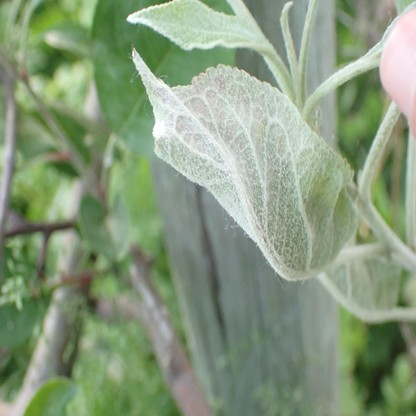powder: (132, 46, 361, 282), (126, 0, 262, 52)
